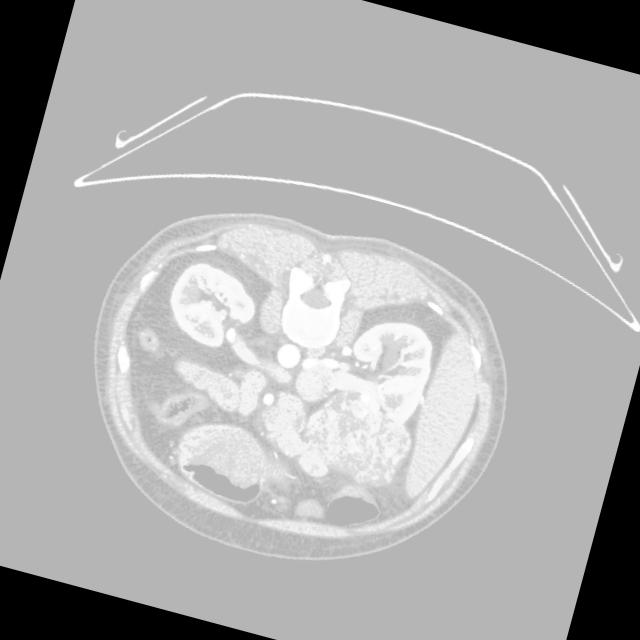TUMOR: (121, 261, 471, 497)
